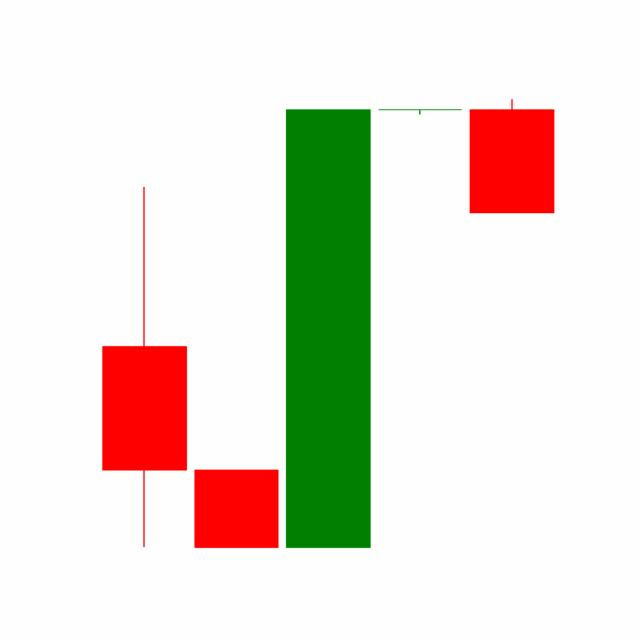Hanging Man: (373, 109, 467, 115)
